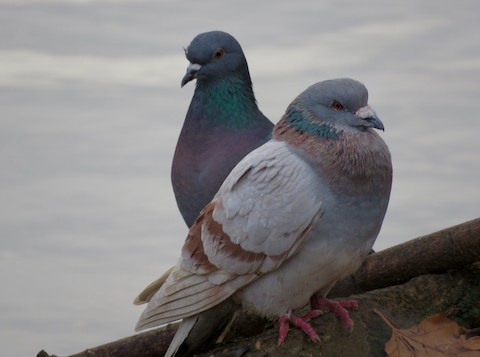pigeon: (123, 73, 395, 353), (169, 22, 383, 325)
